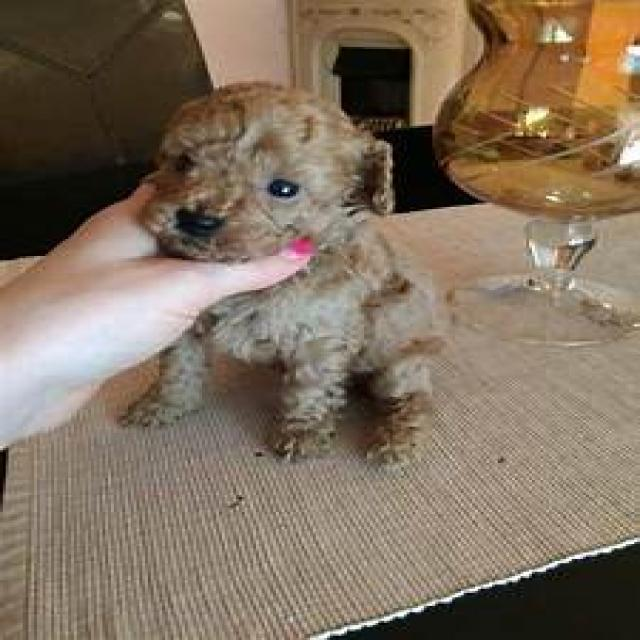dog: (134, 83, 438, 446)
